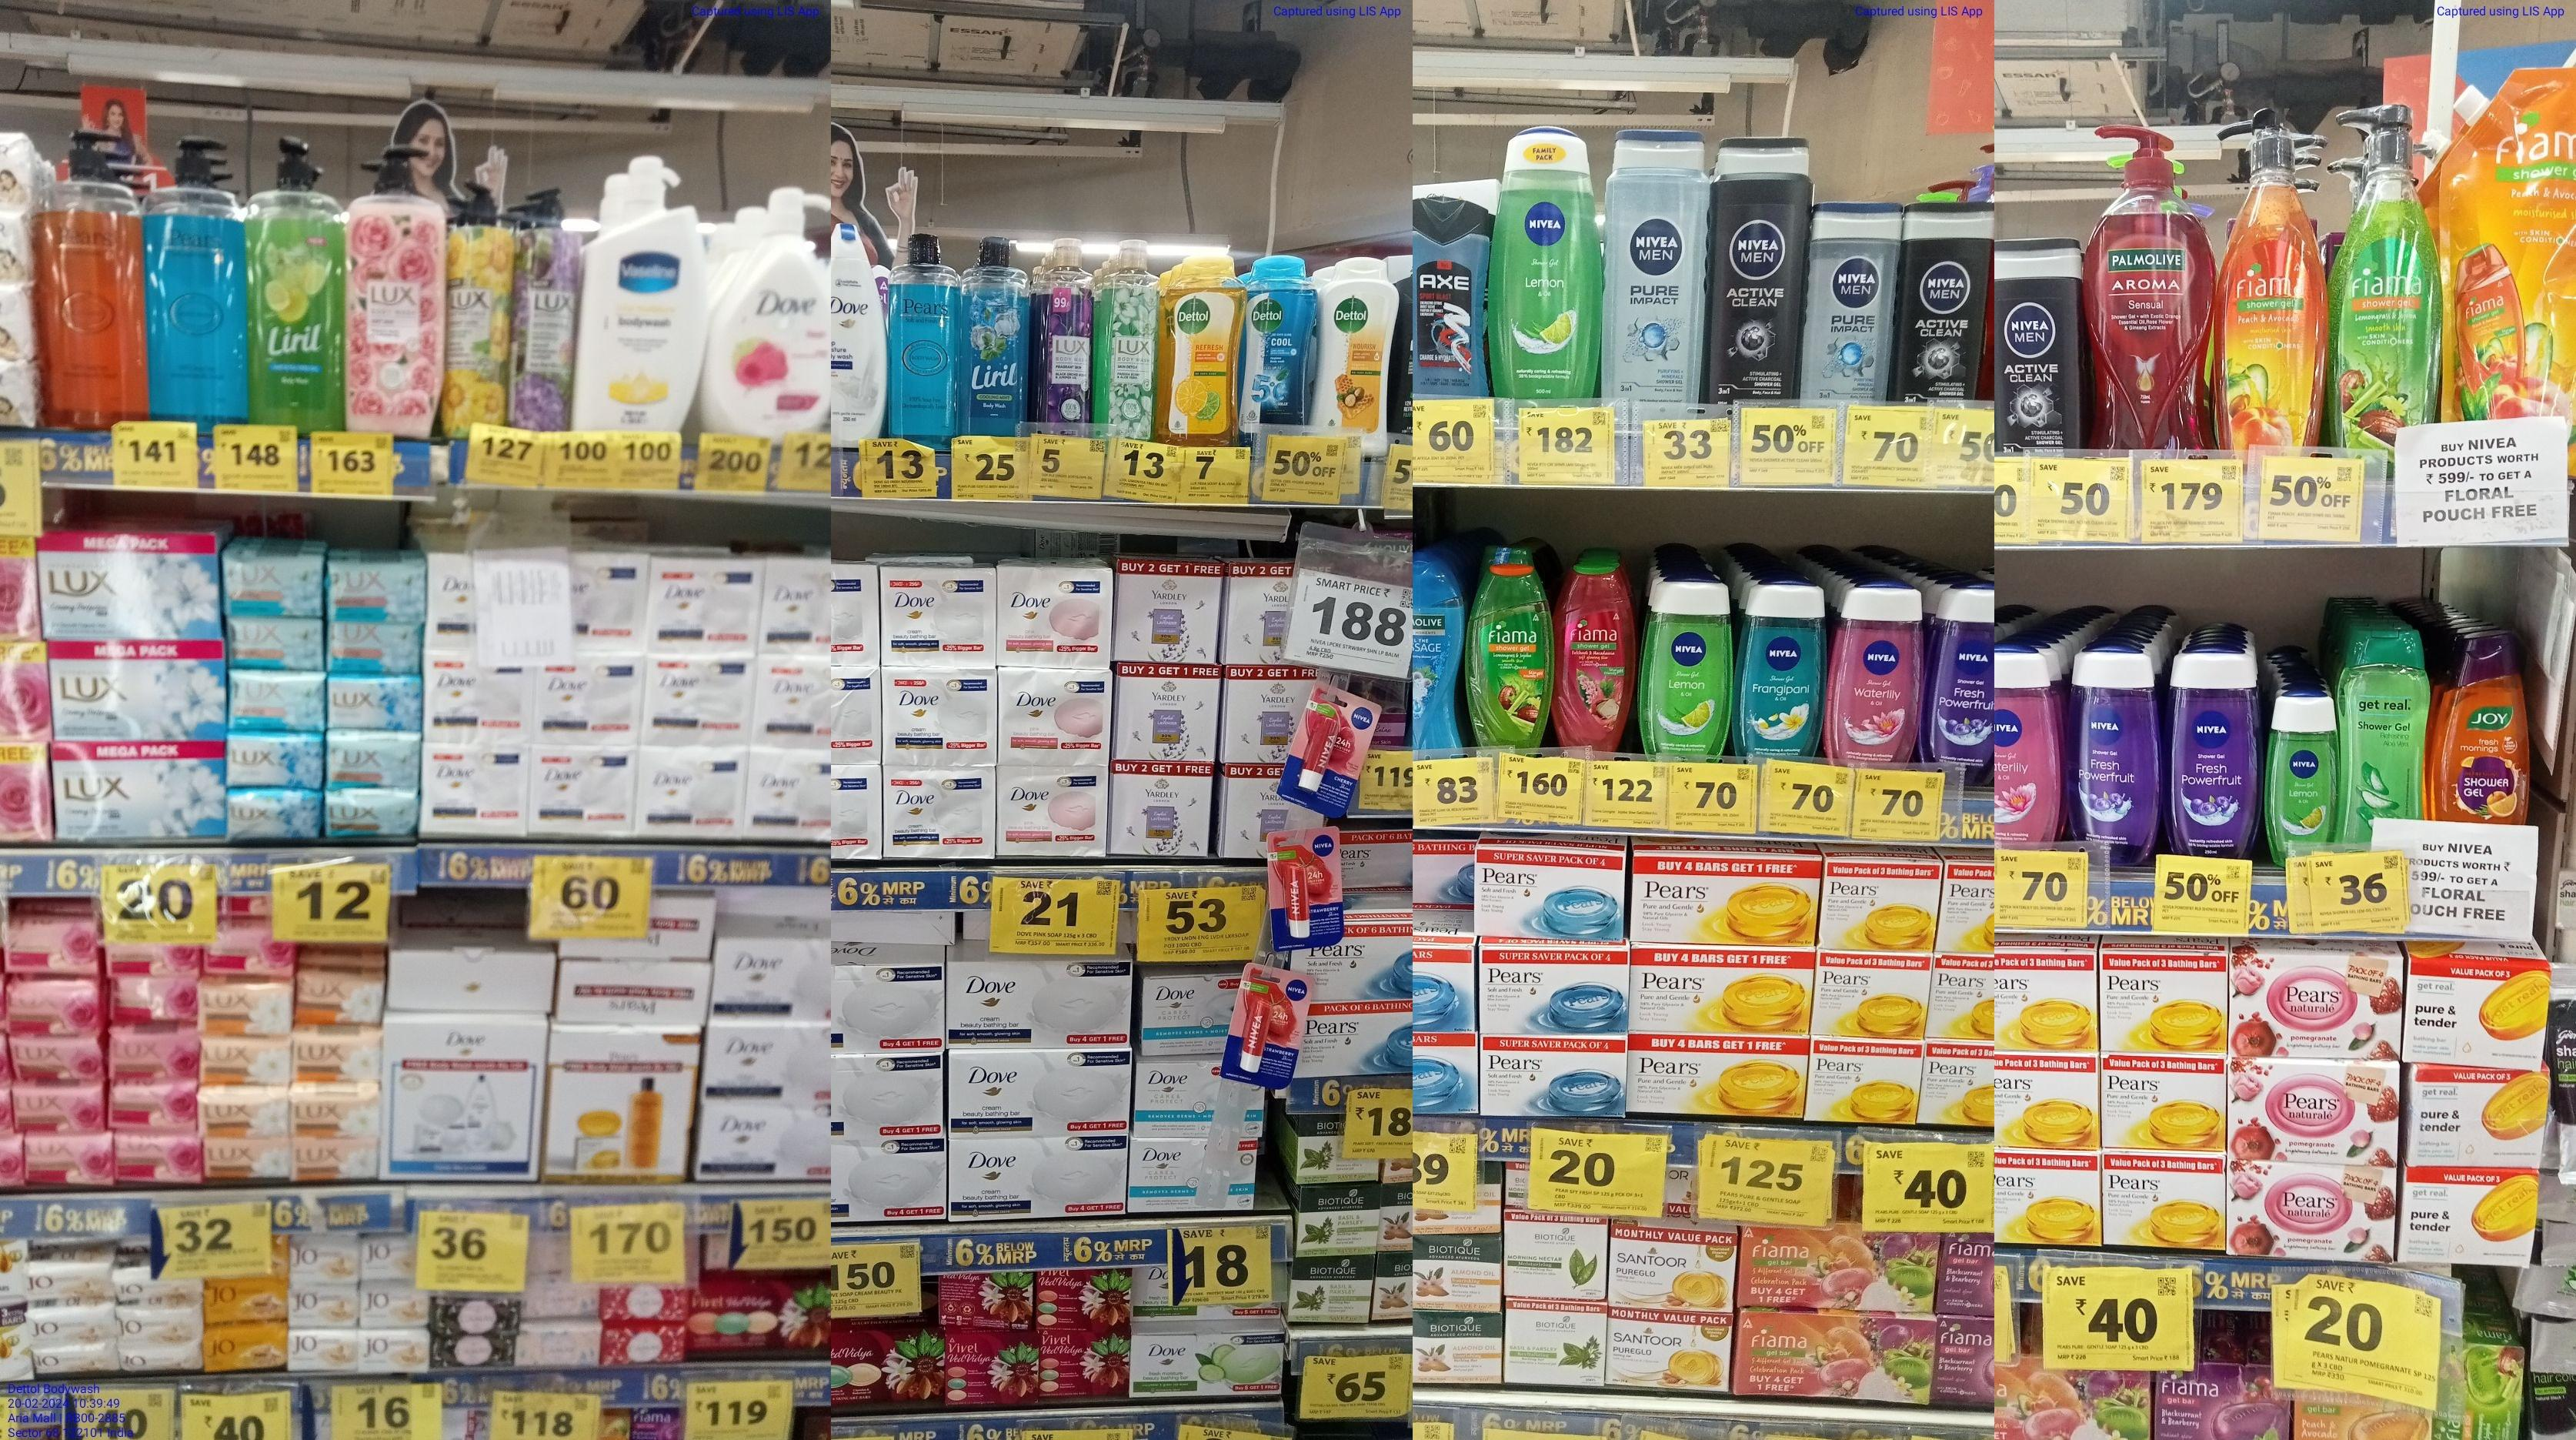Dettol_Bodywash_Cool: (1242, 260, 1311, 435)
Dettol_Bodywash_Refresh: (1162, 249, 1233, 442)
Dettol_Nourish_Body_Wash_250ML: (1320, 257, 1392, 432)
Dove_Deep_Moisture_Body_Wash_250ML: (830, 207, 883, 444)
Fiama_Shower_Gel_Patchouli_and_Macadamia_250ML: (1467, 547, 1546, 752), (1550, 550, 1631, 747)
Joy_Shower_Gel_Mandarin_and_Lemongrass_250ML: (2438, 637, 2530, 821)
Liril_Cooling_Mint_Body_Wash_250ML: (968, 235, 1026, 440)
Lux_Black_Orchid_Scent_and_Juniper_Oil_Body_Wash_245ML: (1035, 232, 1088, 433)
Lux_Body_Wash_Skin_Detox_Freesia_Scent_and_Alove_Vera_245ML: (1100, 242, 1154, 430)
Nivea_Shower_Gel_Frangipani_and_Oil_250ML: (1737, 584, 1821, 764)
Nivea_Shower_Gel_Fresh_Powerfruit_250ML: (2167, 662, 2261, 862), (2066, 647, 2162, 839)
Nivea_Shower_Gel_Lemon_and_Oil_250ML: (1493, 126, 1603, 398), (1645, 582, 1732, 775), (2261, 697, 2339, 858)
Nivea_Shower_Gel_Waterlily_and_Oil_250ML: (1831, 587, 1921, 773)
Palmolive_Aroma_Moments_Feel_The_Massage_Shower_Gel_250ML: (1415, 547, 1463, 759)
Pears_Pure_Glycerin_and_Mint_Extracts_Body_Wash_250ML: (885, 232, 961, 440)
